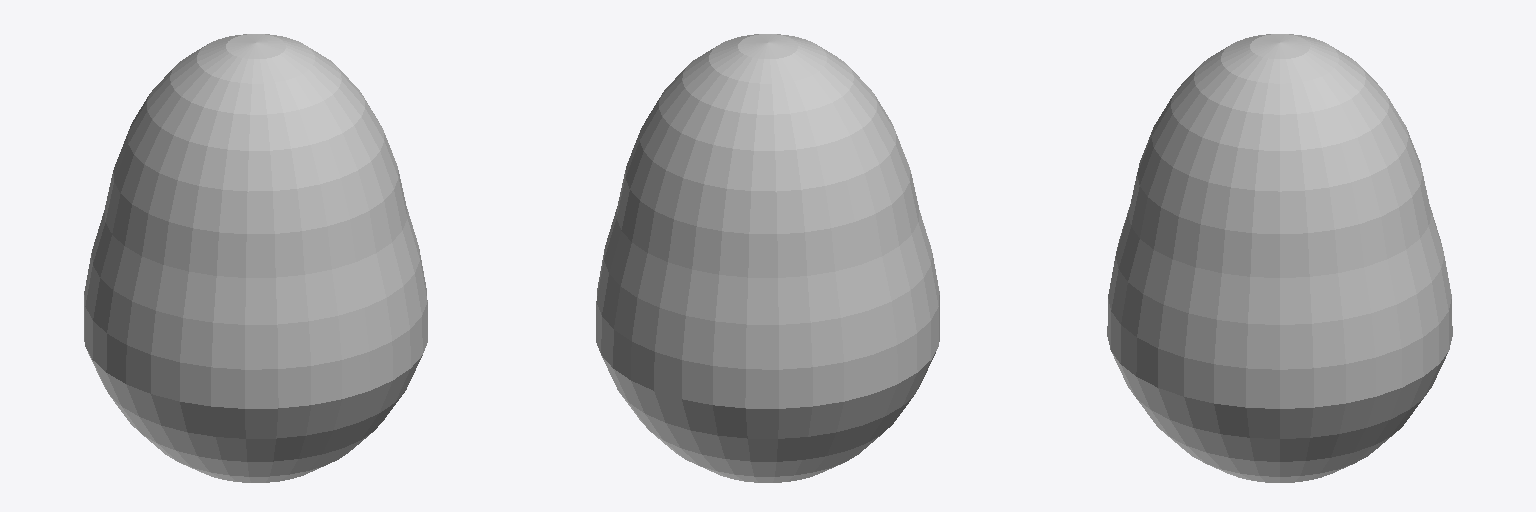
The model's file is peanut.obj.
3 views of the same model, side by side, from view 1: azimuth 30°, elevation 25°; view 2: azimuth 150°, elevation 25°; view 3: azimuth 270°, elevation 25° (orthographic).
Visible parts, largest first — view 1: 구체; view 2: 구체; view 3: 구체.
Part boxes in pixels (left/top/right/bottom): 구체: left=84, top=34, right=427, bottom=482; 구체: left=596, top=34, right=939, bottom=482; 구체: left=1107, top=34, right=1452, bottom=482.
Size of the model in its own units: 1.18 by 1.61 by 1.18.